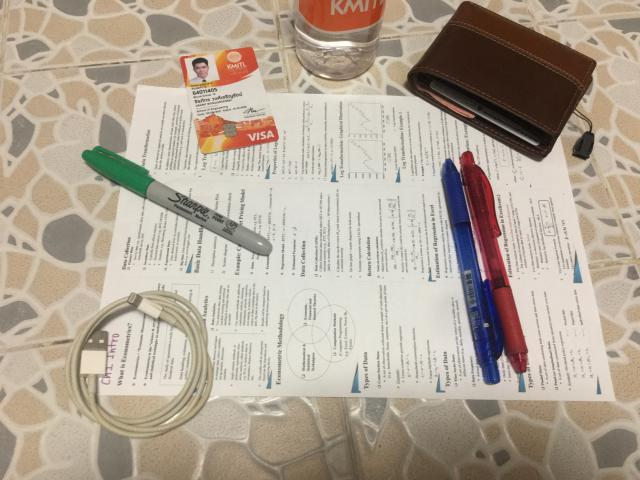Pen: (82, 146, 272, 255), (460, 151, 528, 372), (442, 159, 501, 384)
Wallet: (408, 1, 596, 160)
bottle: (294, 0, 385, 80)
paper: (83, 84, 615, 401)
wire: (65, 290, 212, 439)
